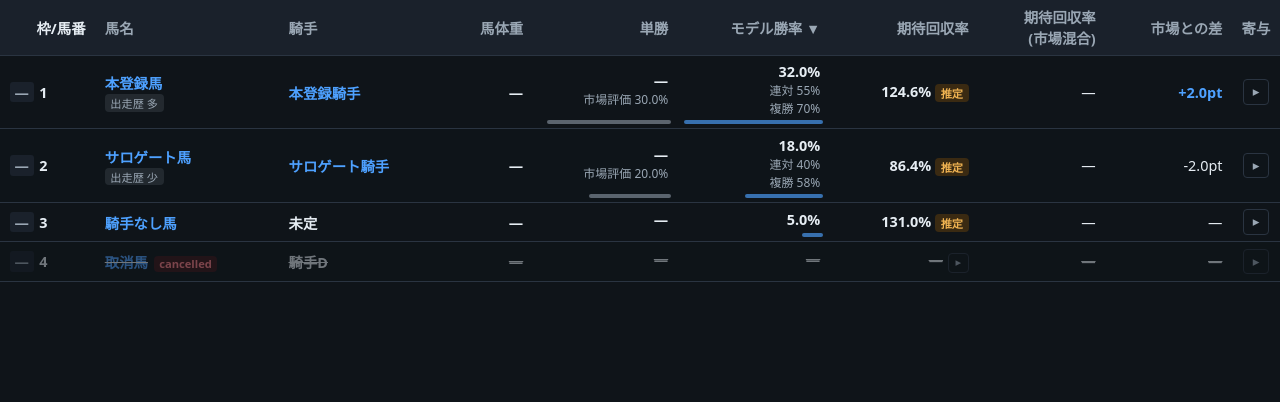
Test case: HorseEntriesTable 注目条件 (138) › a cancelled horse's breakdown (pick not voided yet) shows the scratch, never the chip header
Click the button named "注目条件の内訳" at (958, 263), box 948,253 -> 969,274
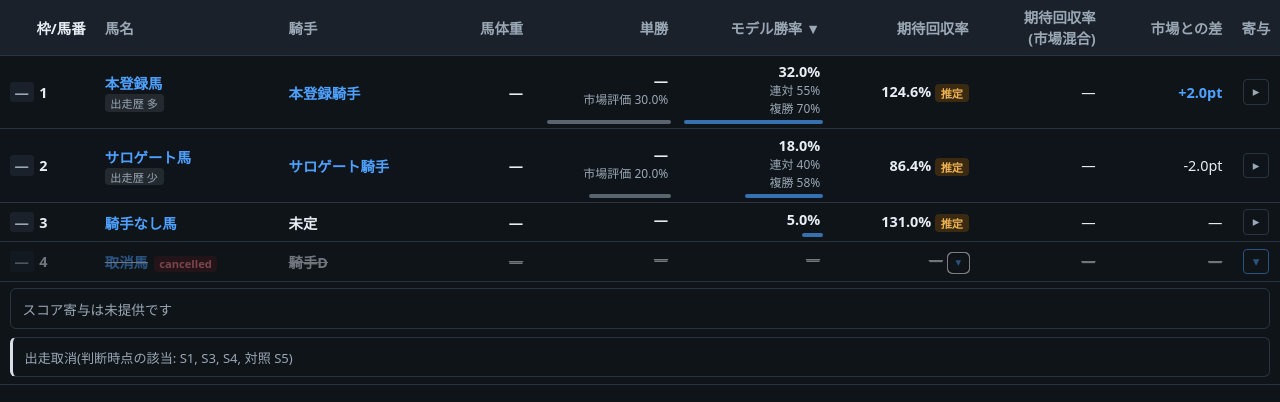
Result: the text with test id "attention-cancelled" reads "出走取消(判断時点の該当: S1, S3, S4, 対照 S5)" at 25,349 -> 293,367
